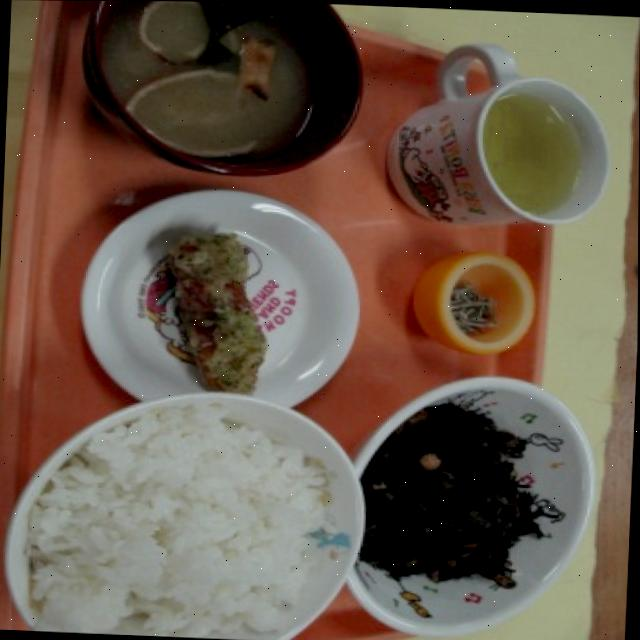米饭主食: (3, 380, 365, 640)
